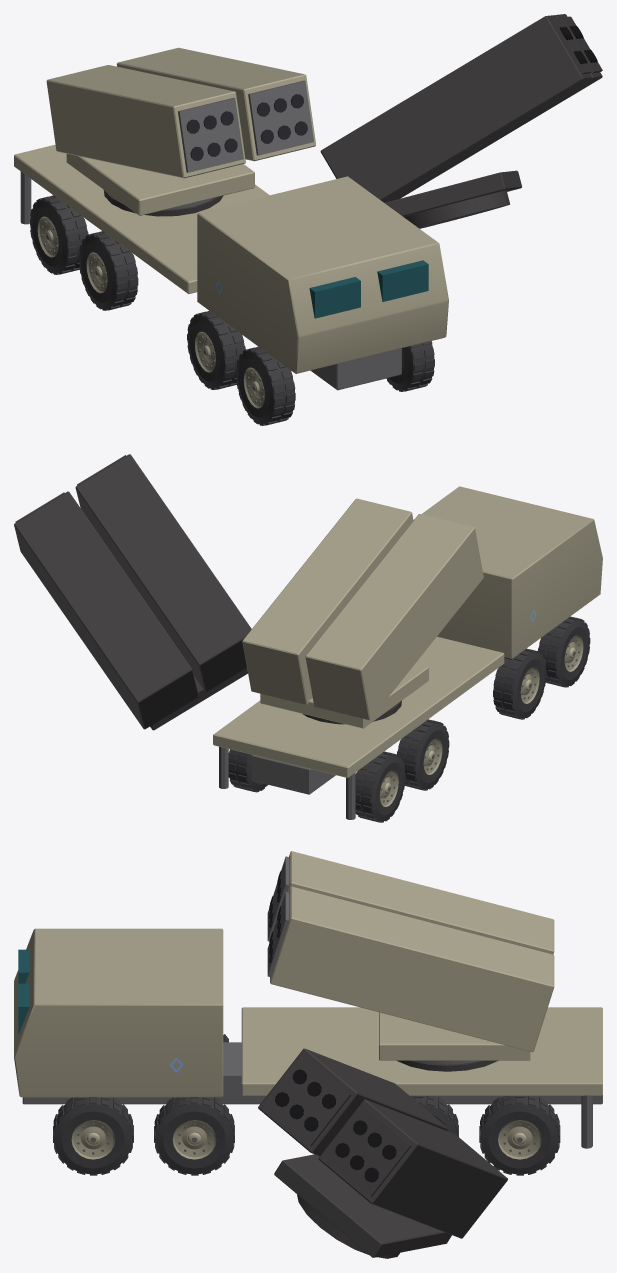
File: mlrs__k239_chunmoo.glb
The picture shows the model from 3 angles, top to bottom: view 1: azimuth 30°, elevation 25°; view 2: azimuth 150°, elevation 25°; view 3: azimuth 270°, elevation 25°; orthographic projection. The views are drawn at different scales.
Parts seen in each view (by area): view 1: Hull_Mesh, Wreck, Gun_Mesh, Turret_Mesh, Wheel_L1_Mesh, Wheel_L3_Mesh, Wheel_L0_Mesh, Wheel_L2_Mesh, Wheel_R3_Mesh; view 2: Wreck, Hull_Mesh, Gun_Mesh, Wheel_L2_Mesh, Wheel_L0_Mesh, Wheel_L1_Mesh, Wheel_L3_Mesh, Turret_Mesh, Wheel_R0_Mesh; view 3: Hull_Mesh, Gun_Mesh, Wreck, Wheel_R0_Mesh, Wheel_R2_Mesh, Wheel_R3_Mesh, Turret_Mesh, Wheel_R1_Mesh.
Boxes of the visible parts, bbox=[...] form: Hull_Mesh: bbox=[14, 144, 448, 390]; Wreck: bbox=[47, 14, 602, 422]; Gun_Mesh: bbox=[46, 47, 315, 178]; Turret_Mesh: bbox=[66, 154, 254, 215]; Wheel_L1_Mesh: bbox=[78, 231, 138, 310]; Wheel_L3_Mesh: bbox=[236, 346, 295, 425]; Wheel_L0_Mesh: bbox=[30, 195, 88, 274]; Wheel_L2_Mesh: bbox=[187, 310, 245, 389]; Wheel_R3_Mesh: bbox=[386, 341, 434, 391]; Wreck: bbox=[14, 454, 572, 819]; Hull_Mesh: bbox=[213, 486, 602, 819]; Gun_Mesh: bbox=[242, 498, 483, 720]; Wheel_L2_Mesh: bbox=[493, 648, 546, 719]; Wheel_L0_Mesh: bbox=[355, 751, 405, 822]; Wheel_L1_Mesh: bbox=[397, 719, 449, 790]; Wheel_L3_Mesh: bbox=[538, 616, 590, 687]; Turret_Mesh: bbox=[260, 663, 428, 728]; Wheel_R0_Mesh: bbox=[228, 749, 267, 792]; Hull_Mesh: bbox=[14, 928, 602, 1148]; Gun_Mesh: bbox=[267, 851, 554, 1052]; Wreck: bbox=[102, 1048, 535, 1258]; Wheel_R0_Mesh: bbox=[479, 1096, 560, 1175]; Wheel_R2_Mesh: bbox=[154, 1097, 234, 1175]; Wheel_R3_Mesh: bbox=[53, 1097, 133, 1175]; Turret_Mesh: bbox=[379, 1012, 530, 1064]; Wheel_R1_Mesh: bbox=[410, 1096, 458, 1136].
Size of what is drawn, in the model's own units: 7.98 by 3.84 by 8.15.
